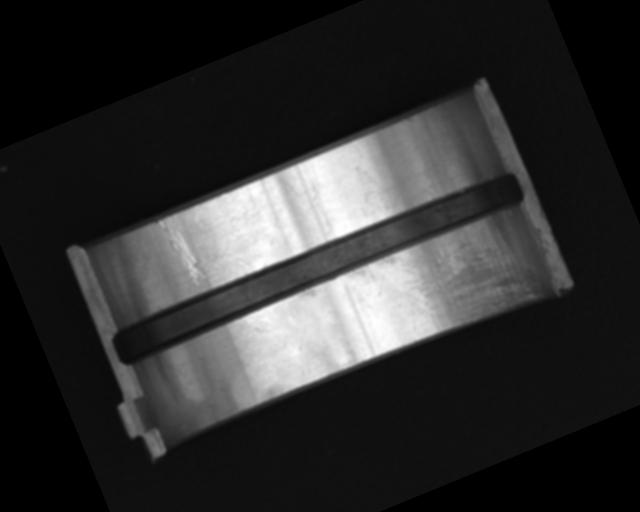gap: (107, 167, 528, 371)
nick: (155, 210, 209, 292)
scratch: (379, 206, 547, 351)
